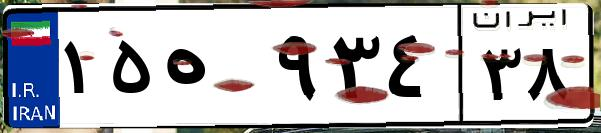1: (57, 26, 110, 100)
3: (330, 28, 385, 110), (475, 38, 525, 113)
4: (385, 28, 445, 110)
5: (110, 28, 158, 98)
8: (525, 38, 570, 115)
9: (270, 28, 330, 110)
ه: (158, 20, 270, 120)
